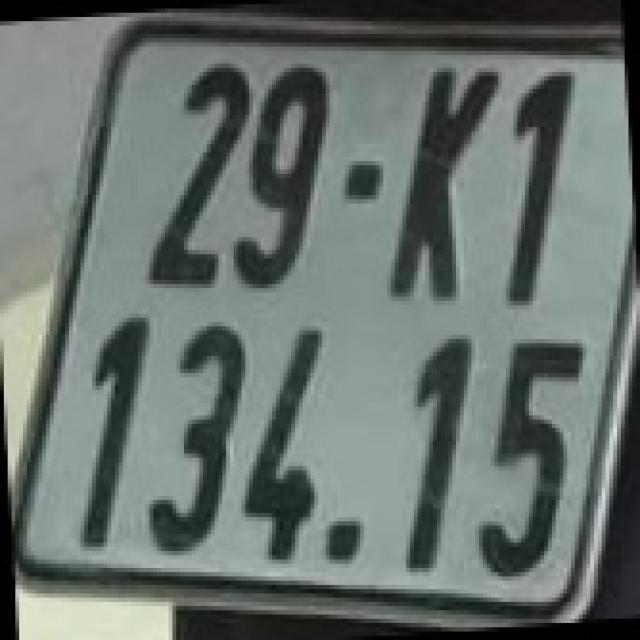1: (399, 334, 475, 580), (502, 64, 579, 305), (76, 314, 150, 546)
2: (142, 55, 245, 288)
3: (146, 318, 245, 551)
4: (245, 322, 326, 564)
5: (479, 330, 583, 580)
7: (76, 314, 150, 551)
9: (233, 64, 329, 288)
K: (387, 55, 494, 305)
